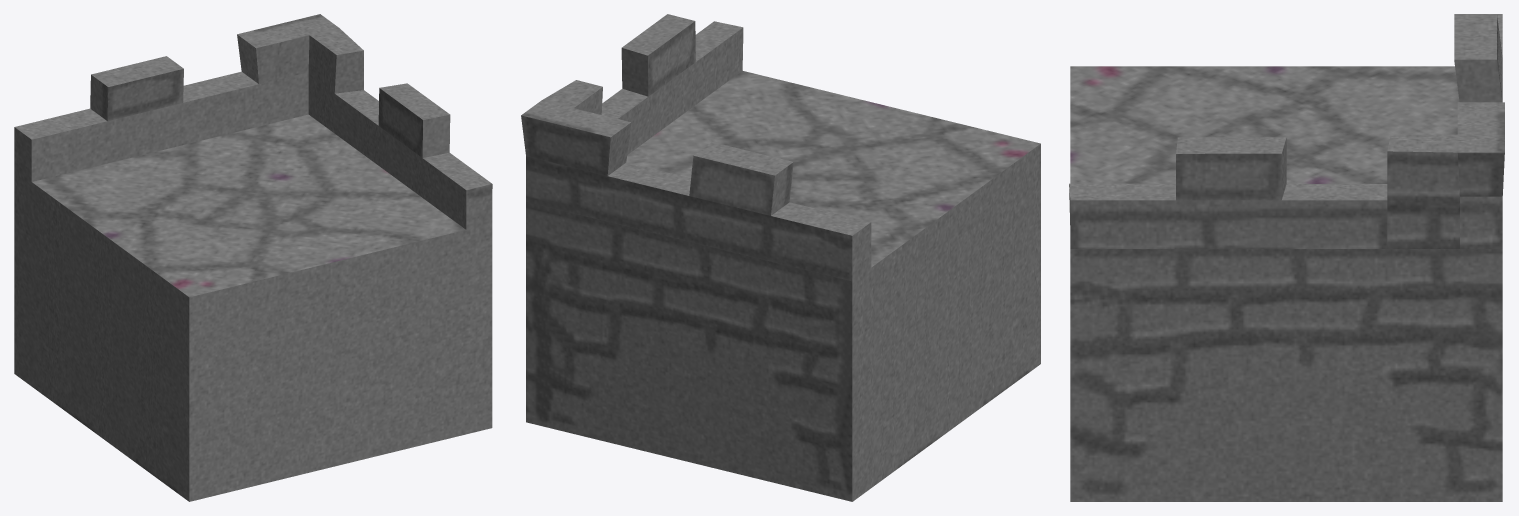
File: winter_forest_corner.fbx
3 views of the same model, side by side, from view 1: azimuth 30°, elevation 25°; view 2: azimuth 150°, elevation 25°; view 3: azimuth 270°, elevation 25° (orthographic). The views are drawn at different scales.
Visible parts, largest first — view 1: winter_forest_bridge_LOD0; view 2: winter_forest_bridge_LOD0; view 3: winter_forest_bridge_LOD0.
Boxes of the visible parts, bbox=[...] form: winter_forest_bridge_LOD0: bbox=[14, 14, 492, 501]; winter_forest_bridge_LOD0: bbox=[521, 14, 1040, 501]; winter_forest_bridge_LOD0: bbox=[1069, 14, 1504, 501].
Size of what is drawn, in the model's own units: 203 by 179 by 202.
